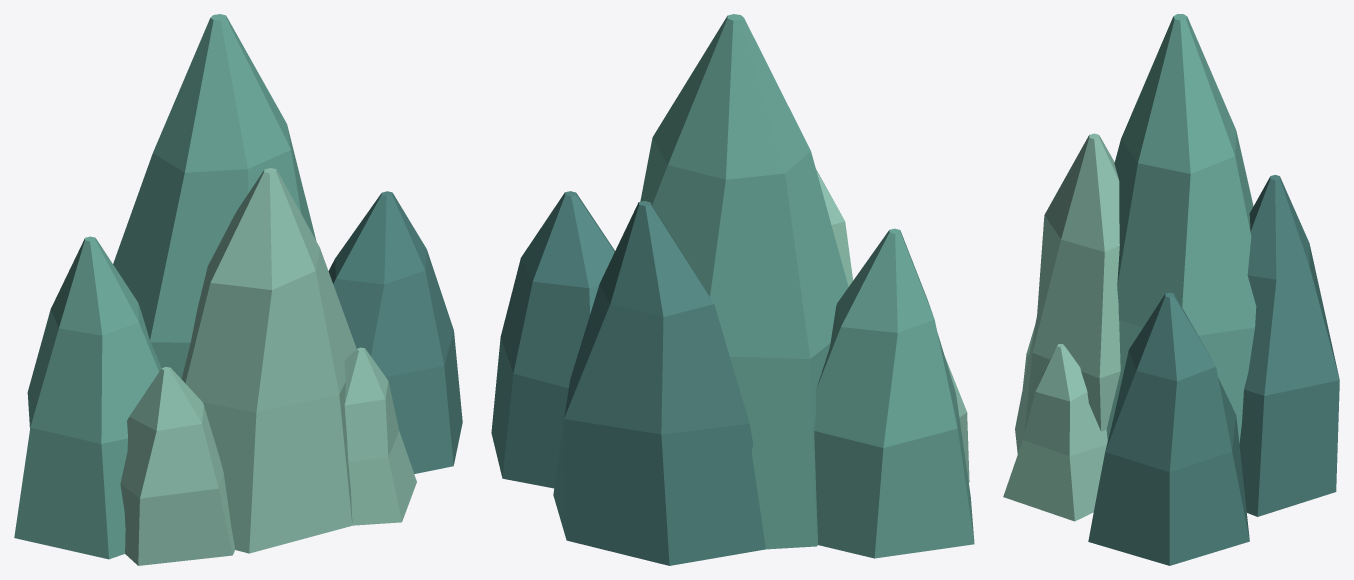
The model's file is Stage_01_青绿剪纸奇石.glb.
The picture shows the model from 3 angles, left to right: view 1: azimuth 30°, elevation 25°; view 2: azimuth 150°, elevation 25°; view 3: azimuth 270°, elevation 25°; orthographic projection. The views are drawn at different scales.
Visible parts, largest first — view 1: Peak_Front, Peak_Main, Peak_Left, Peak_Right, Peak_FL, Peak_FR; view 2: Peak_Main, Peak_Back, Peak_Left, Peak_Right, Peak_Front, Peak_FL; view 3: Peak_Main, Peak_Right, Peak_Back, Peak_Front, Peak_FR.
Boxes of the visible parts, box(x1,y1,x2,y2) form: Peak_Front: box(181, 168, 356, 553); Peak_Main: box(113, 14, 316, 378); Peak_Left: box(14, 236, 161, 559); Peak_Right: box(328, 191, 462, 473); Peak_FL: box(120, 367, 235, 565); Peak_FR: box(344, 347, 416, 525); Peak_Main: box(640, 14, 848, 549); Peak_Back: box(553, 201, 765, 565); Peak_Left: box(814, 228, 974, 558); Peak_Right: box(491, 191, 614, 488); Peak_Front: box(816, 169, 852, 286); Peak_FL: box(945, 357, 969, 482); Peak_Main: box(1106, 14, 1256, 443); Peak_Right: box(1088, 292, 1249, 565); Peak_Back: box(1239, 175, 1339, 516); Peak_Front: box(1015, 133, 1120, 453); Peak_FR: box(1003, 344, 1107, 521).
Bounding box in the file's own units: 2.85 × 2.75 × 1.92.
